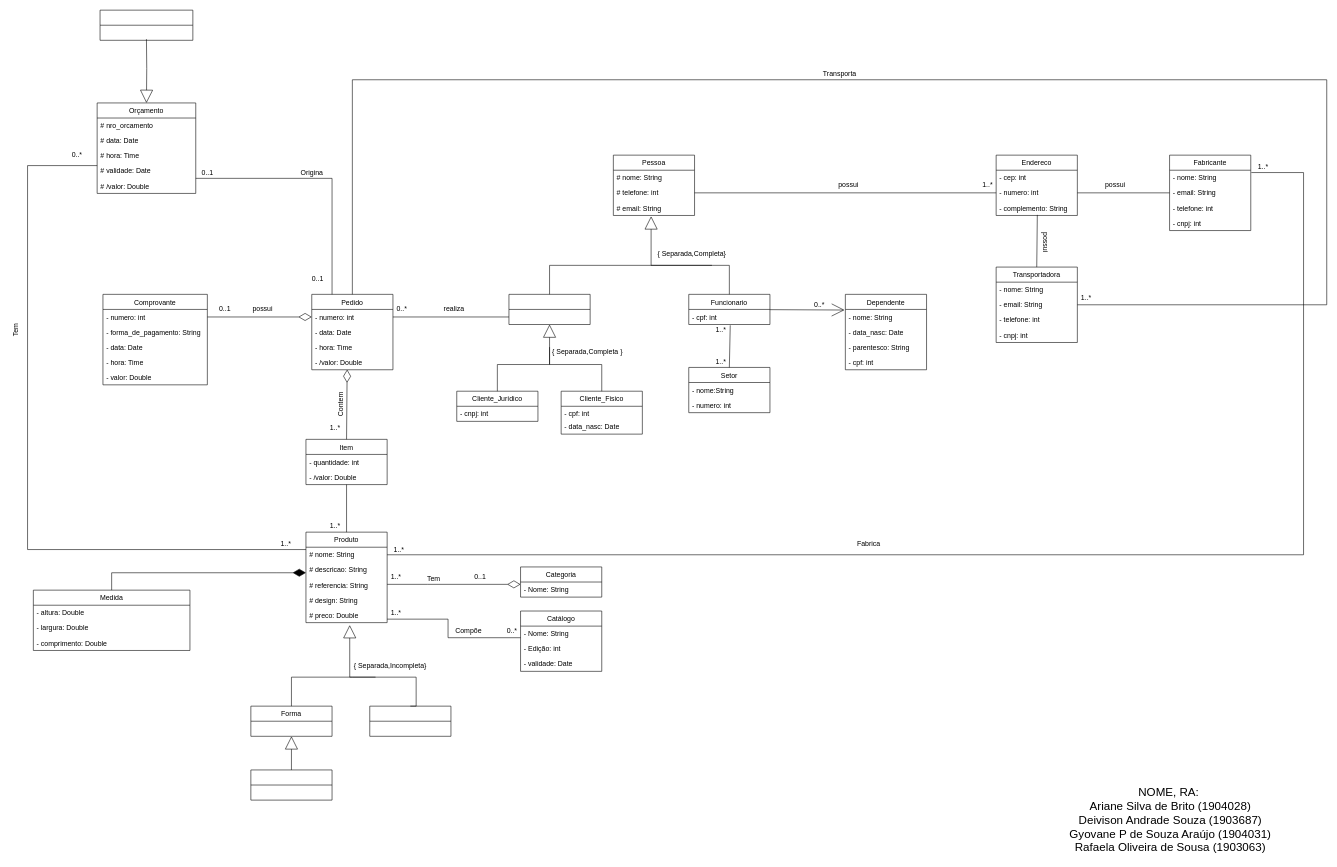
This 1337x867 diagram has some shape labels left out. The shapes that lost their labels are listed below. From the top down, each one's centre as x and y in pixels, then its label:
At point 146,25: "Orçamento_sob_medida".
At point 549,309: "Cliente".
At point 410,721: "Utensilio".
At point 291,784: "Sob_Medida".
